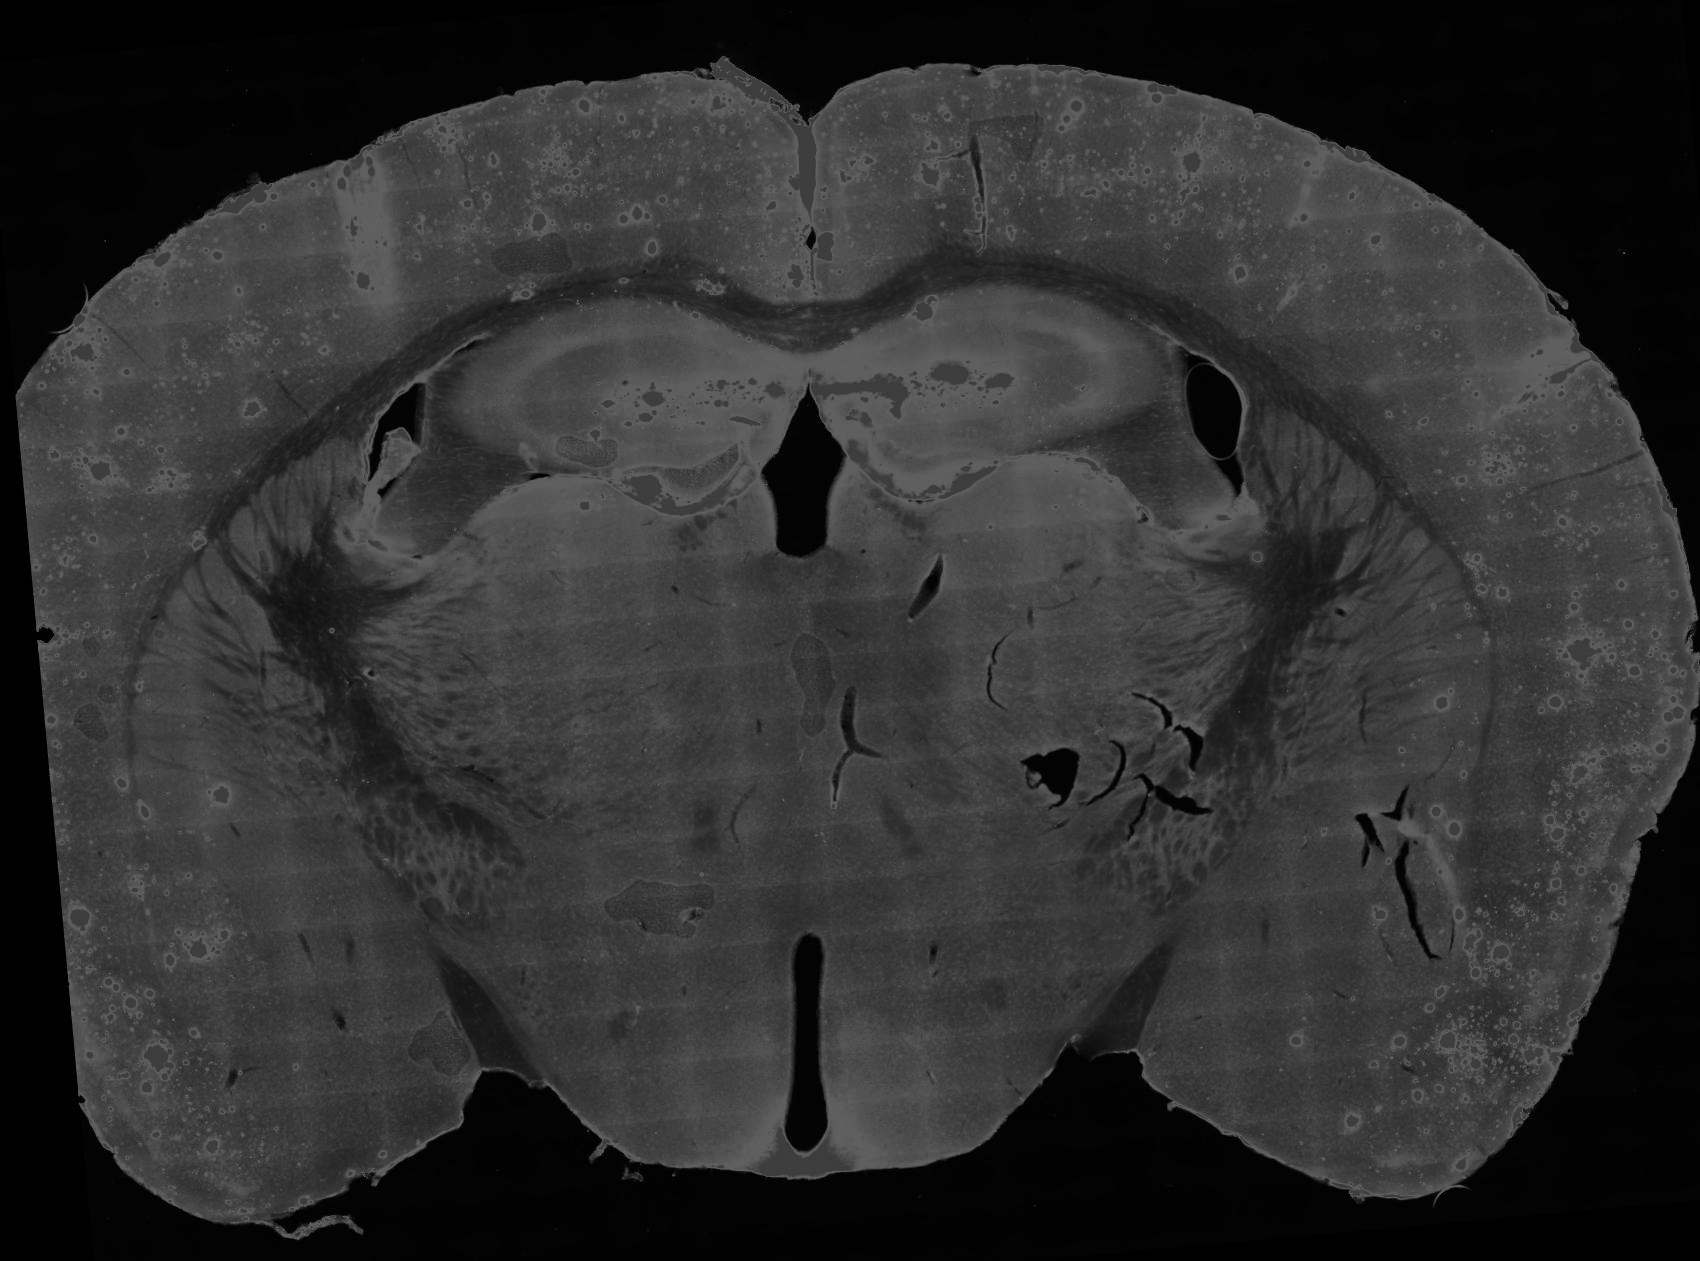Cerebral nuclei: (128, 434, 365, 909), (1256, 403, 1493, 820)
Hippocampal formation: (808, 282, 1170, 499), (449, 299, 809, 513)
Hypothalamus: (805, 752, 1197, 1180), (417, 770, 808, 1178)
Retrosplenial area: (804, 79, 918, 305), (708, 83, 814, 309)
Somatosensory area: (17, 162, 406, 560), (1201, 117, 1597, 486)
Thalamus: (800, 453, 1270, 834), (350, 456, 806, 836)
